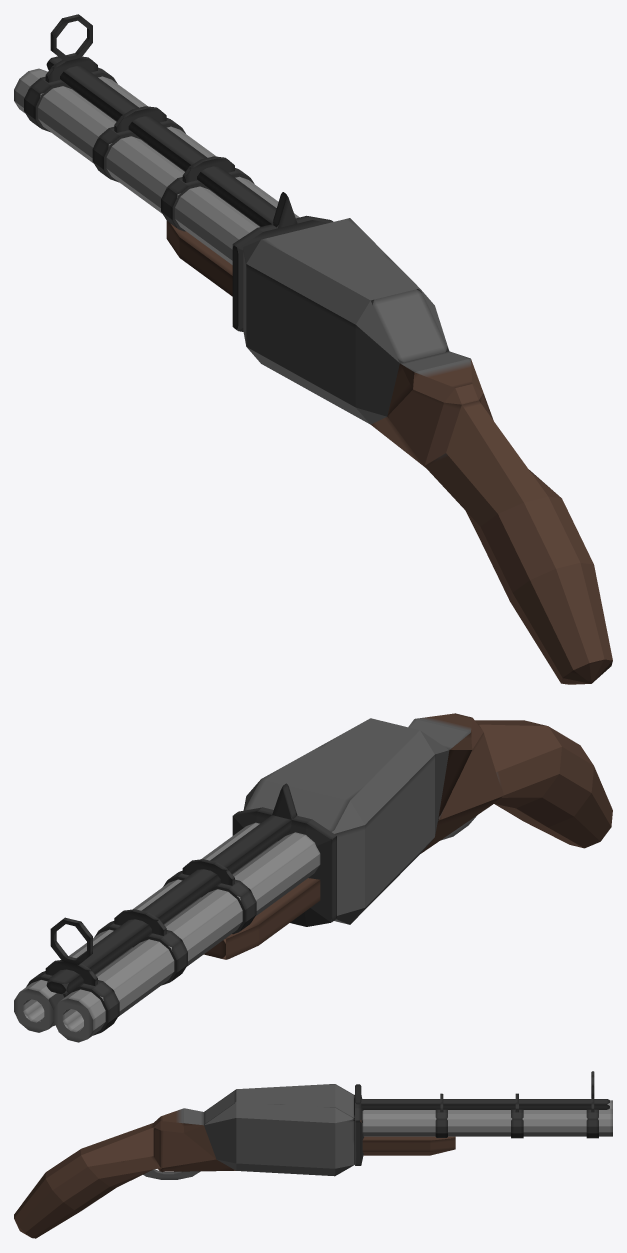
Rendered from Shotgun.fbx.
The picture shows the model from 3 angles, top to bottom: view 1: azimuth 30°, elevation 25°; view 2: azimuth 150°, elevation 25°; view 3: azimuth 270°, elevation 25°; orthographic projection. The views are drawn at different scales.
Parts seen in each view (by area): view 1: beveled_cuboid, sphere, tube_1, beveled_cuboid_3, cube, beveled_cuboid_1, beveled_cuboid_2, tube, tube_5, tube_7, tube_2; view 2: beveled_cuboid, tube_1, sphere, cube, beveled_cuboid_3, beveled_cuboid_2, tube, beveled_cuboid_1, tube_7, tube_2, tube_5, tube_11 (+4 smaller); view 3: beveled_cuboid, sphere, tube, beveled_cuboid_3, cube, beveled_cuboid_1, beveled_cuboid_2, tube_12, tube_6, tube_4, tube_3, tube_1.
Part boxes in pixels (x1,y1,x2,y2): beveled_cuboid: (243,218,449,424); sphere: (424,400,612,684); tube_1: (14,68,259,264); beveled_cuboid_3: (371,351,493,467); cube: (46,56,276,226); beveled_cuboid_1: (166,221,232,296); beveled_cuboid_2: (232,215,333,331); tube: (79,76,299,226); tube_5: (92,127,145,182); tube_7: (24,76,77,132); tube_2: (161,177,214,231); beveled_cuboid: (243,718,449,924); tube_1: (53,832,320,1042); sphere: (475,720,612,848); cube: (46,815,291,994); beveled_cuboid_3: (408,713,503,853); beveled_cuboid_2: (232,807,336,926); tube: (14,822,277,1032); beveled_cuboid_1: (204,878,320,959); tube_7: (66,980,119,1035); tube_2: (202,879,256,934); tube_5: (134,930,187,985); tube_11: (50,917,92,964); beveled_cuboid: (204,1084,354,1176); sphere: (14,1123,160,1238); tube: (362,1111,612,1136); beveled_cuboid_3: (153,1108,235,1171); cube: (361,1099,609,1109); beveled_cuboid_1: (360,1120,455,1155); beveled_cuboid_2: (352,1095,363,1165); tube_12: (143,1169,200,1179); tube_6: (586,1109,598,1138); tube_4: (511,1109,523,1138); tube_3: (435,1109,447,1137); tube_1: (363,1100,612,1110).
Size of the model in its own units: 37.5 by 89.31 by 297.
